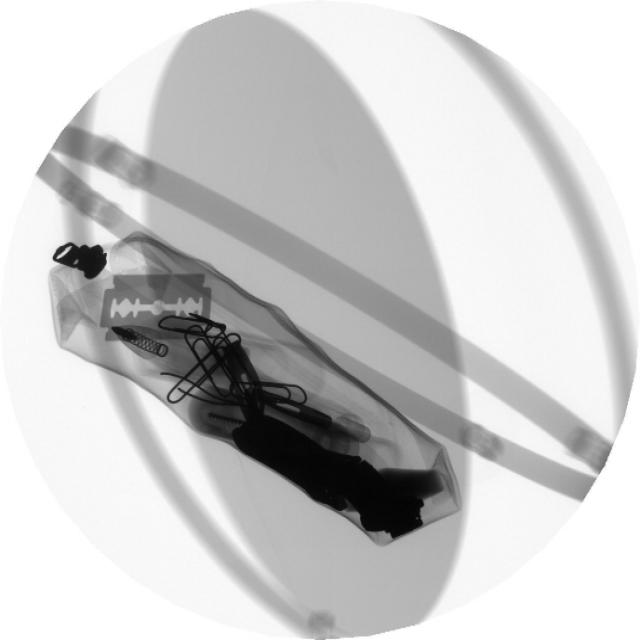BLADE: (92, 263, 223, 349)
